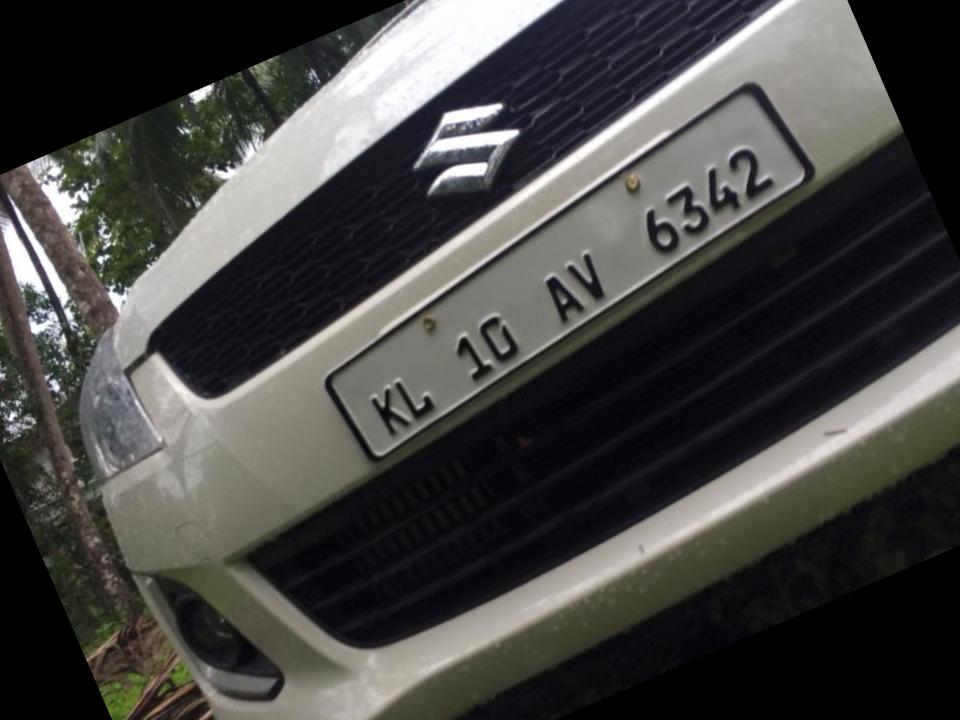plate: (296, 129, 858, 455)
